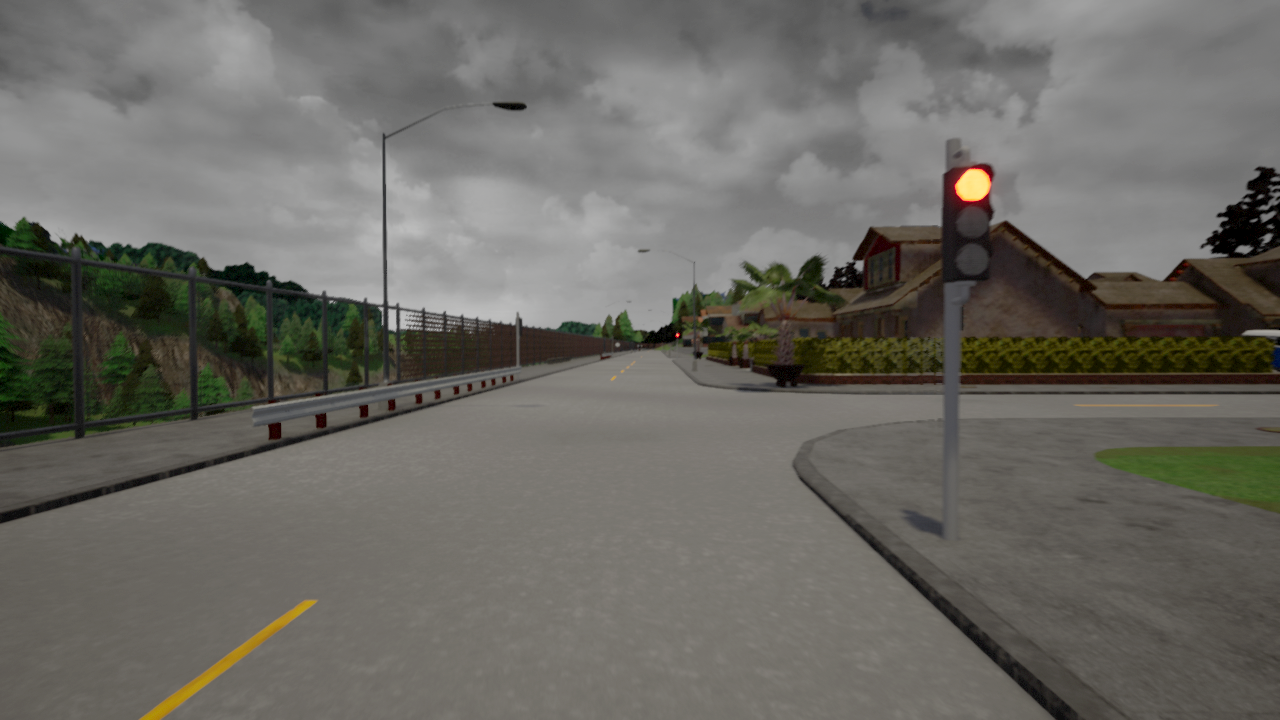red: (943, 164, 993, 286)
